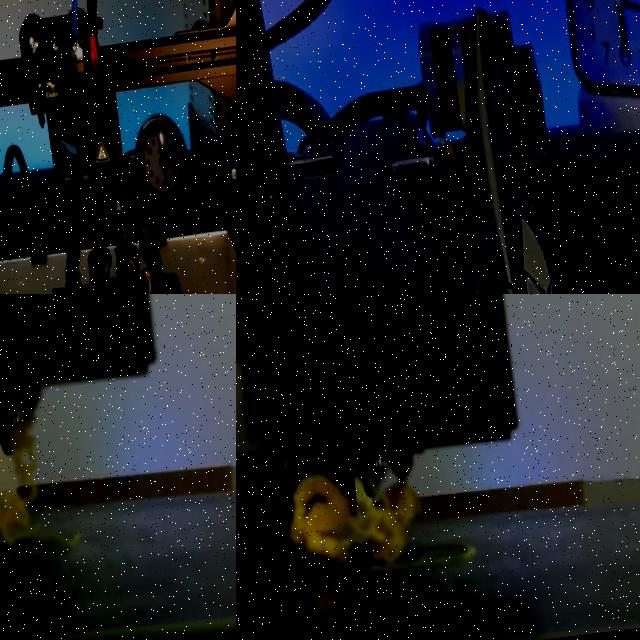spaghetti: (287, 462, 420, 565), (10, 417, 33, 483)
